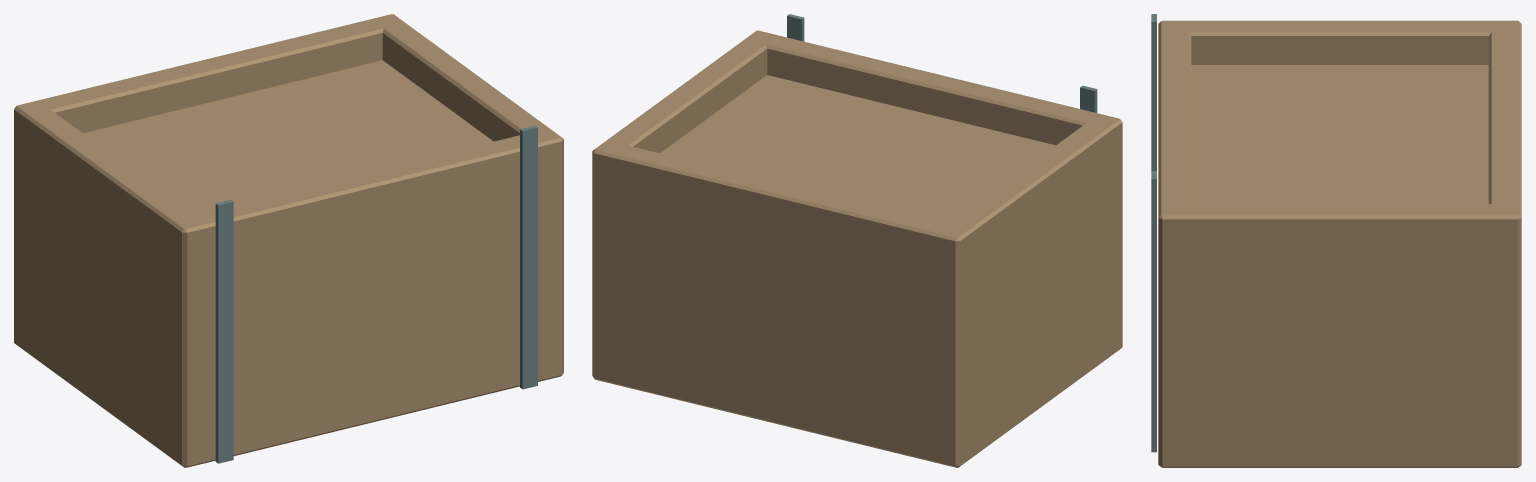
The model's file is market_crate.fbx.
3 views of the same model, side by side, from view 1: azimuth 30°, elevation 25°; view 2: azimuth 150°, elevation 25°; view 3: azimuth 270°, elevation 25° (orthographic). The views are drawn at different scales.
Parts seen in each view (by area): view 1: market_crate__long_side, market_crate__end_side, market_crate__side_plank.001, market_crate__long_side.001, market_crate__end_side.001, market_crate__strap, market_crate__strap.001; view 2: market_crate__long_side.001, market_crate__end_side, market_crate__side_plank.001, market_crate__long_side, market_crate__end_side.001; view 3: market_crate__end_side.001, market_crate__side_plank.001, market_crate__end_side, market_crate__long_side.001, market_crate__long_side, market_crate__strap.001, market_crate__strap.
Part boxes in pixels (x1,y1,x2,y2): market_crate__long_side: (183,128,563,467); market_crate__end_side: (14,102,205,467); market_crate__side_plank.001: (83,60,493,214); market_crate__long_side.001: (15,14,402,133); market_crate__end_side.001: (372,14,563,372); market_crate__strap: (215,200,233,463); market_crate__strap.001: (520,125,537,389); market_crate__long_side.001: (592,143,966,467); market_crate__end_side: (938,114,1122,467); market_crate__side_plank.001: (660,75,1055,223); market_crate__long_side: (747,30,1121,145); market_crate__end_side.001: (592,30,777,375); market_crate__end_side.001: (1159,204,1520,467); market_crate__side_plank.001: (1191,65,1488,203); market_crate__end_side: (1162,20,1517,64); market_crate__long_side.001: (1488,21,1521,467); market_crate__long_side: (1158,21,1191,467); market_crate__strap.001: (1151,171,1156,452); market_crate__strap: (1151,14,1156,170).
Bounding box in the file's own units: 226 × 147 × 179.
